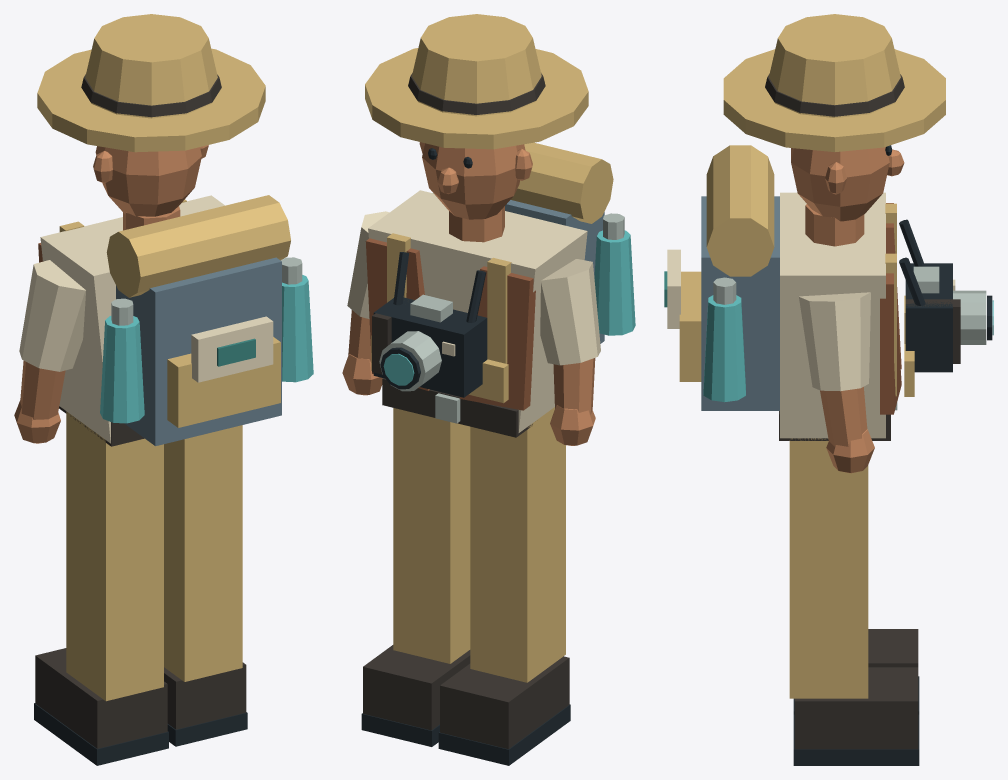
File: researcher-vest.glb
3 renders of one model, left to right at view 1: azimuth 30°, elevation 25°; view 2: azimuth 150°, elevation 25°; view 3: azimuth 270°, elevation 25°, orthographic. The views are drawn at different scales.
Visible parts, largest first — view 1: Body, LegL, Head, LegR, FieldVest, ArmL; view 2: LegL, Head, Body, LegR, FieldVest, Camera, ArmL, ArmR; view 3: Body, Head, LegR, ArmR, FieldVest, Camera, LegL.
Boxes of the visible parts, x1,y1,x2,y2 form: Body: (40,195,290,446); LegL: (34,411,168,765); Head: (37,14,265,230); LegR: (164,425,247,746); FieldVest: (38,243,313,423); ArmL: (14,260,85,443); LegL: (438,407,570,765); Head: (365,14,588,242); Body: (368,142,613,437); LegR: (361,408,470,746); FieldVest: (365,213,635,410); Camera: (372,294,487,397); ArmL: (540,259,600,445); ArmR: (342,211,389,395); Body: (679,145,925,440); Head: (723,14,945,246); LegR: (789,438,919,765); ArmR: (799,292,874,473); FieldVest: (664,203,914,414); Camera: (905,263,993,372); LegL: (793,629,919,714).
Size of the model in its own units: 0.742 by 1.94 by 0.838.
